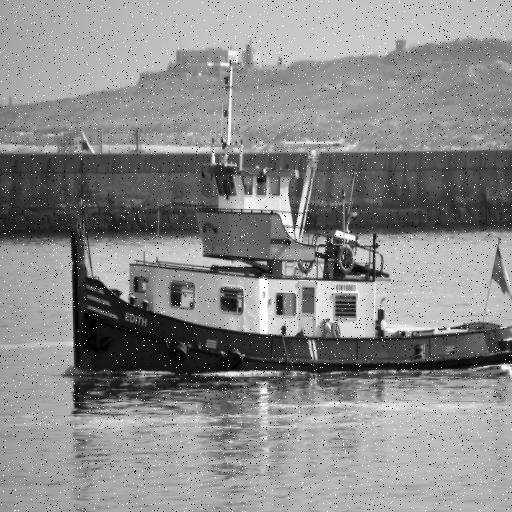tugboat: (64, 58, 512, 397)
